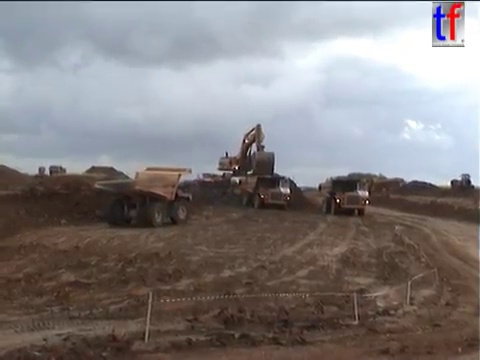excavator: (215, 122, 278, 190)
truck: (92, 165, 193, 227), (230, 173, 291, 209), (317, 175, 370, 216), (196, 170, 244, 192), (354, 175, 407, 194), (47, 163, 66, 179)
wheel loader: (448, 173, 476, 194)
